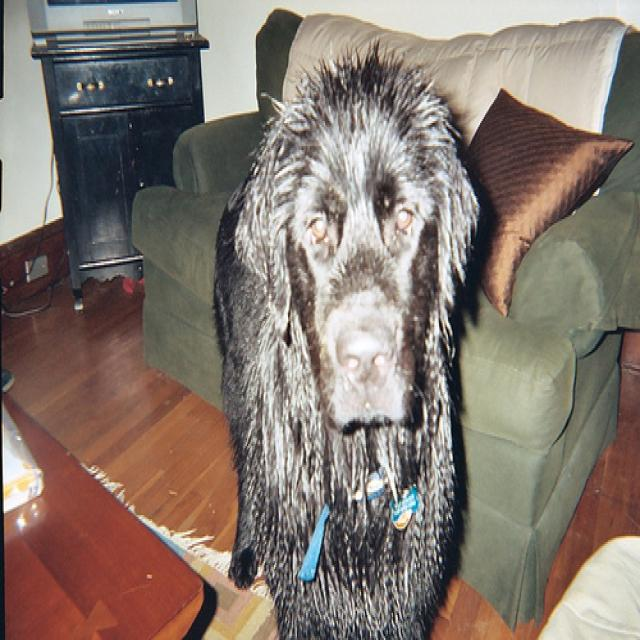dog-newfoundland: (202, 54, 476, 636)
